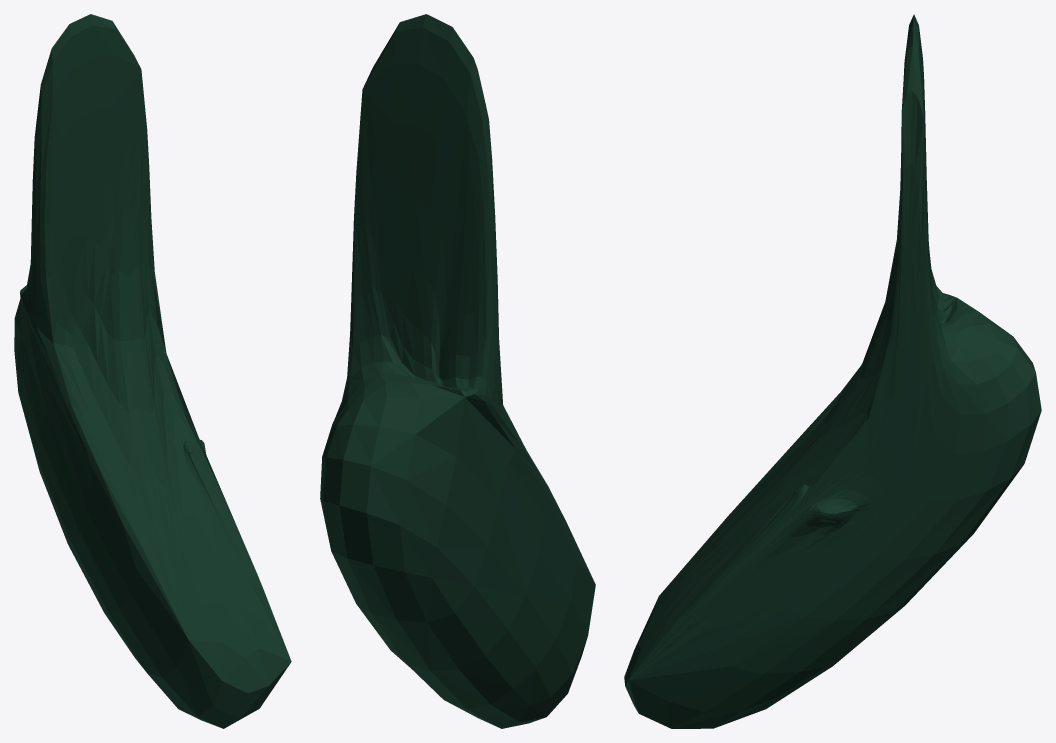
3 views of the same model, side by side, from view 1: azimuth 30°, elevation 25°; view 2: azimuth 150°, elevation 25°; view 3: azimuth 270°, elevation 25° (orthographic). The views are drawn at different scales.
Parts seen in each view (by area): view 1: 260_Cube.1065; view 2: 260_Cube.1065; view 3: 260_Cube.1065.
Boxes of the visible parts, x1=… form: 260_Cube.1065: x1=14, y1=14, x2=291, y2=728; 260_Cube.1065: x1=320, y1=14, x2=595, y2=728; 260_Cube.1065: x1=624, y1=14, x2=1041, y2=728.
Bounding box in the file's own units: 3.37 × 15.79 × 8.54.
